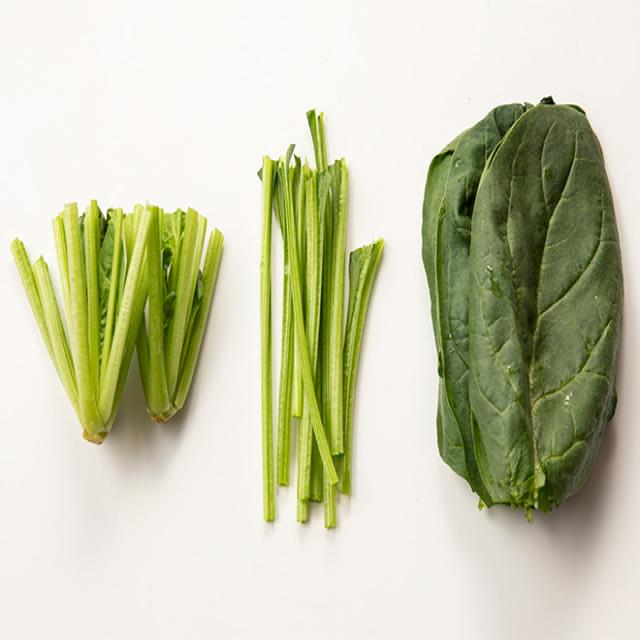Wet Waste: (414, 85, 626, 525), (242, 100, 399, 539)
